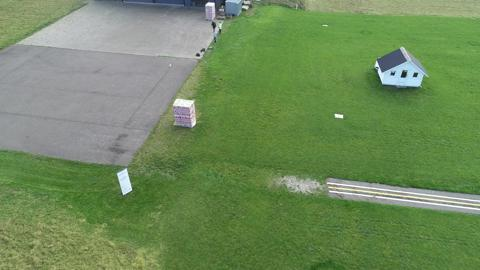RockwoolPallet: (173, 99, 197, 128)
